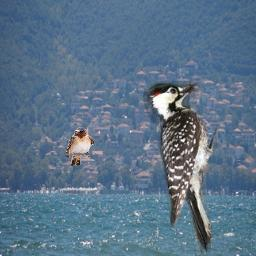Swallow: (66, 127, 94, 166)
Woodpecker: (141, 81, 224, 255)
